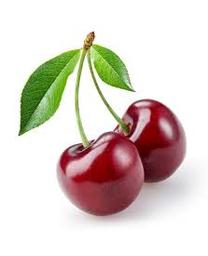cherry: (56, 132, 144, 217), (104, 99, 187, 183)
